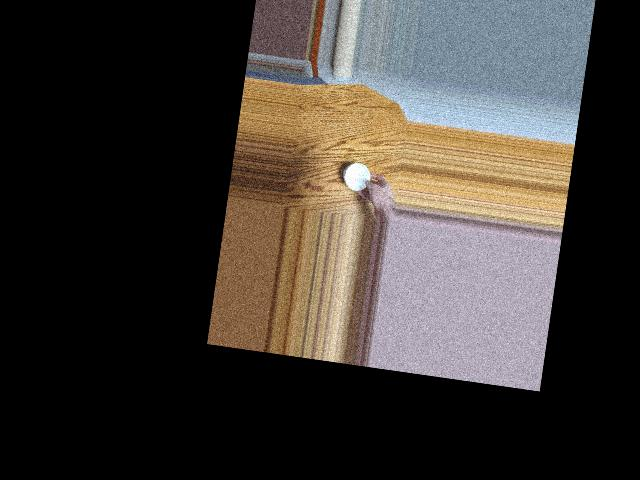cotage: (340, 155, 377, 195)
